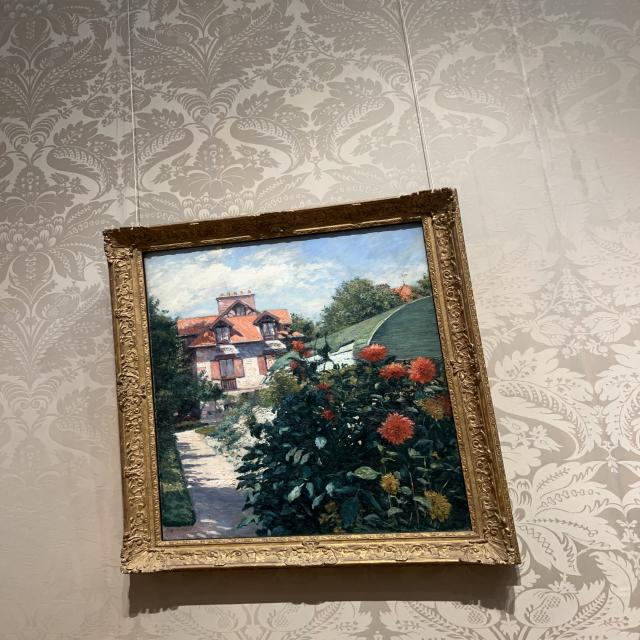summer: (148, 229, 463, 537)
